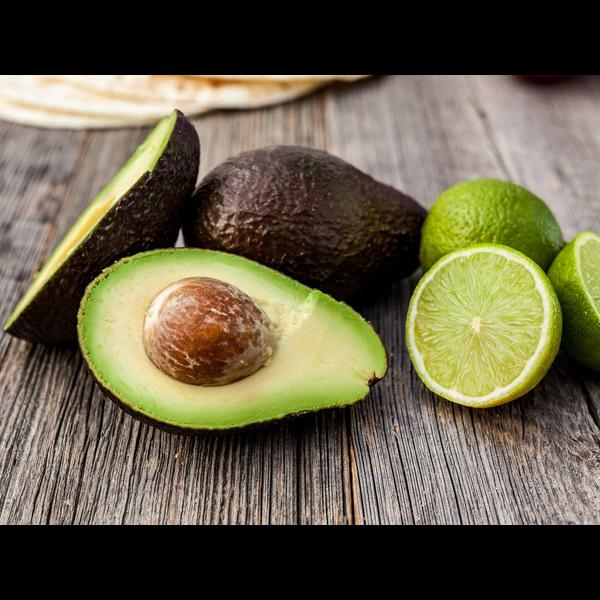ripe: (182, 144, 428, 293)
